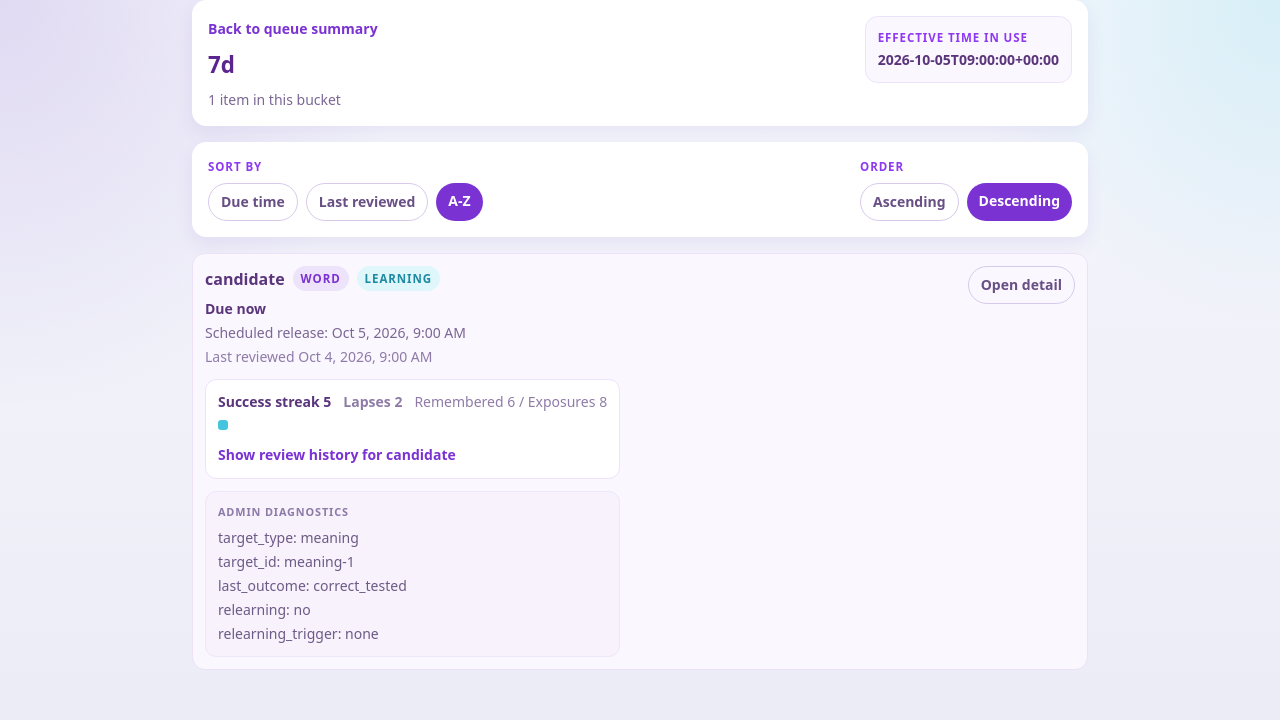
Test case: AdminReviewQueueBucketPage › renders admin bucket detail rows with debug fields and preserved controls
The image size is (1280, 720).
Expected: the heading "7d" is shown, [208, 49, 235, 80]
Expected: the text "1 item in this bucket" is shown, [208, 90, 341, 109]
Click the button "Show review history for candidate": point(337, 455) [218, 445, 456, 465]
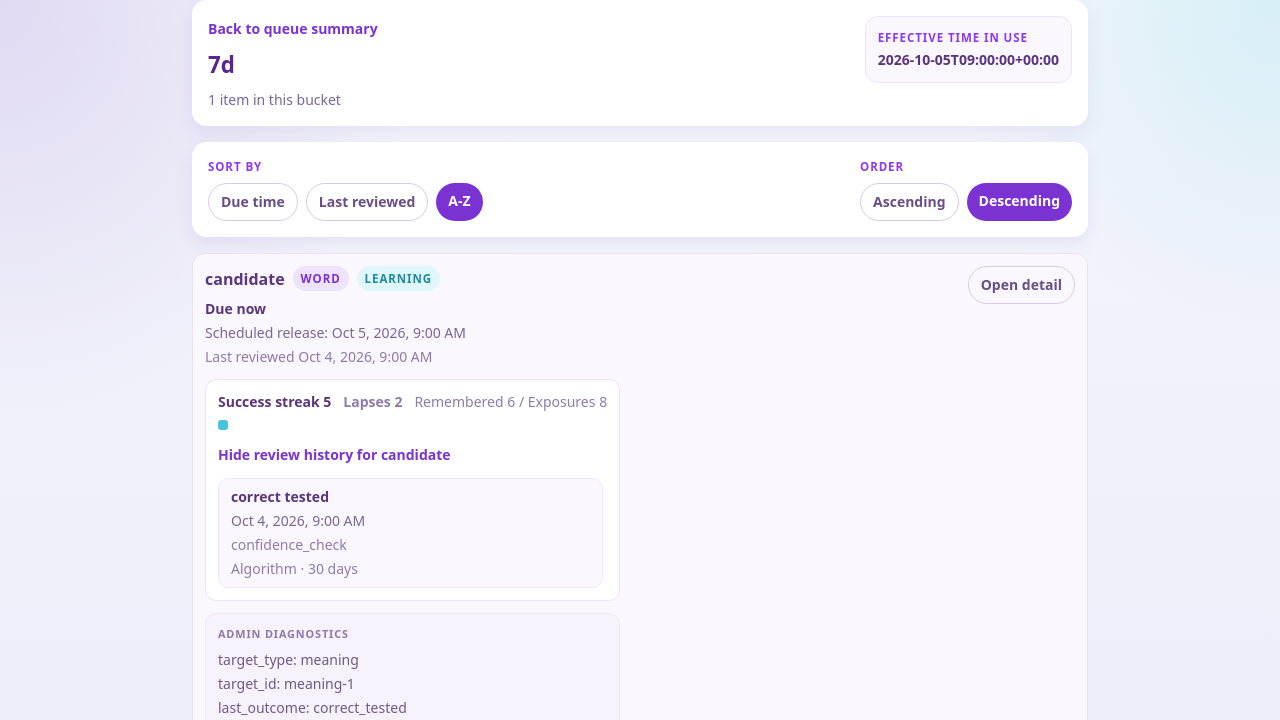
Expected: the text "target_type: meaning" is shown, [218, 650, 359, 670]
Result: the text "confidence_check" is shown at [231, 535, 347, 554]
